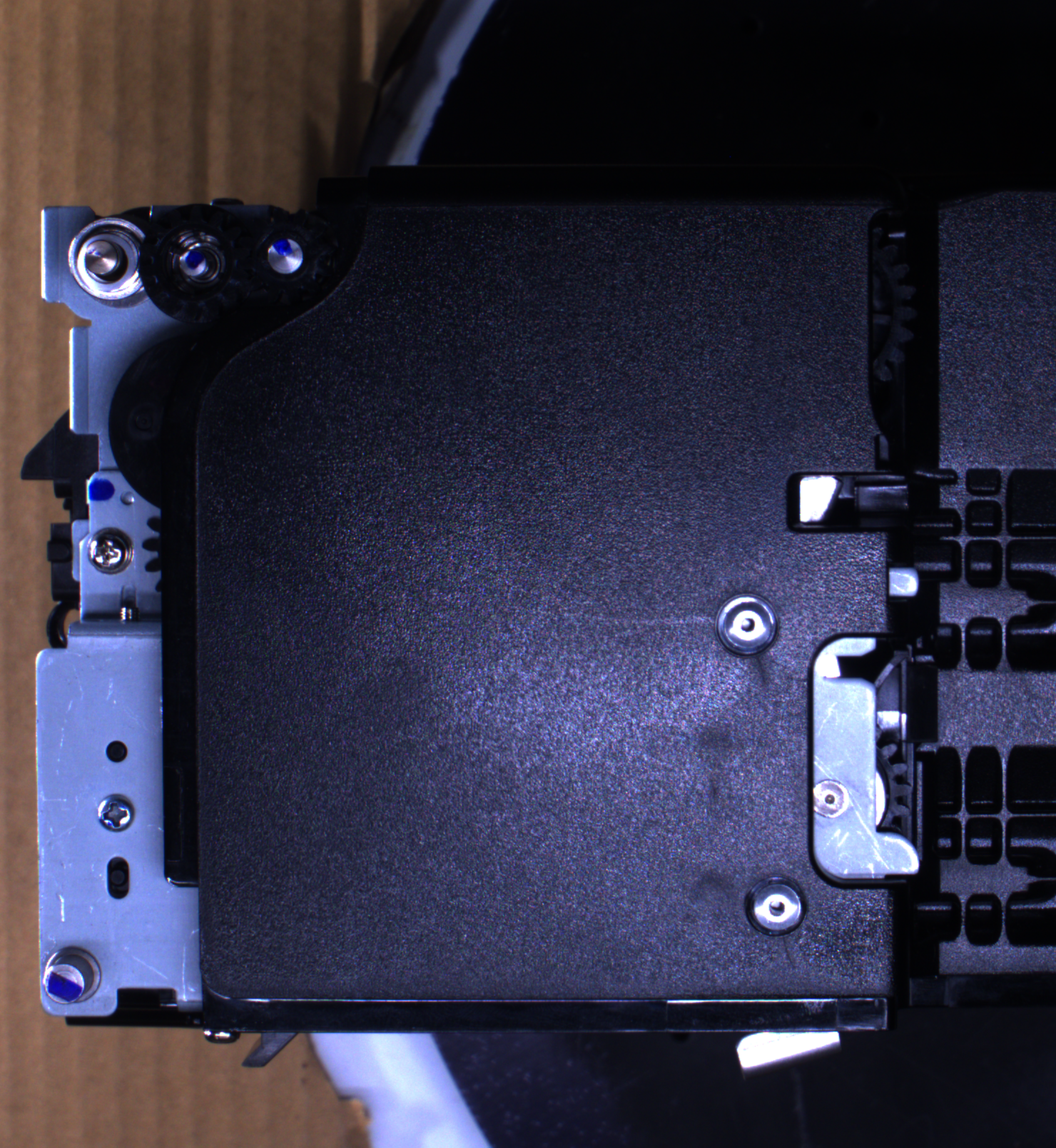centre_pin_presence: (729, 1015, 847, 1078)
centre_plate_presence: (807, 628, 933, 892)
centre_screw_presence: (712, 588, 783, 664), (739, 871, 812, 944)
gear1_absence: (66, 216, 152, 312)
gear2_presence: (140, 202, 250, 323)
gear3_presence: (235, 205, 335, 306)
side_screw_presence: (85, 525, 135, 576), (95, 788, 140, 838)
slanting_pin_presence: (36, 941, 109, 1015)
